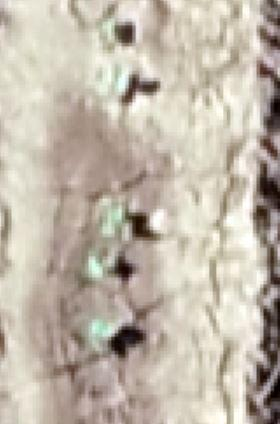cotton: (107, 72, 128, 97), (104, 207, 127, 227), (94, 321, 113, 339), (87, 253, 101, 277), (103, 22, 116, 39)
